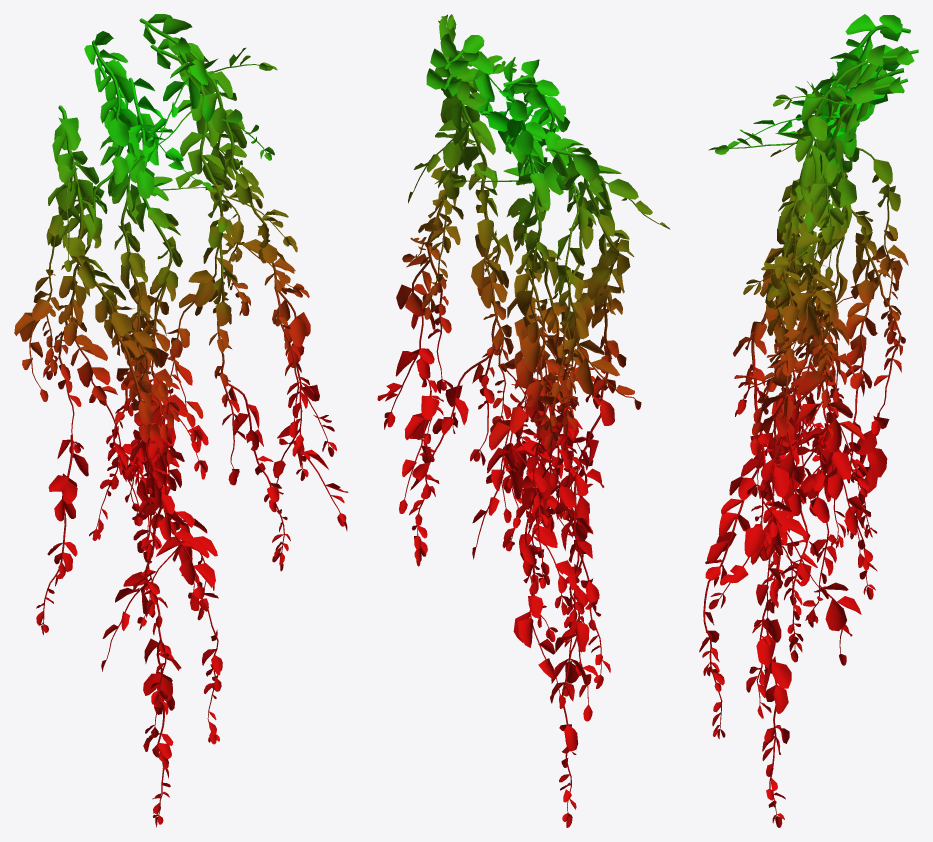
The model's file is Var3_LOD1.fbx.
3 renders of one model, left to right at view 1: azimuth 30°, elevation 25°; view 2: azimuth 150°, elevation 25°; view 3: azimuth 270°, elevation 25°, orthographic. The views are drawn at different scales.
Parts seen in each view (by area): view 1: _2dnd_Var3_LOD1; view 2: _2dnd_Var3_LOD1; view 3: _2dnd_Var3_LOD1.
Boxes of the visible parts, box(x1,y1,x2,y2) form: _2dnd_Var3_LOD1: box(14, 14, 348, 827); _2dnd_Var3_LOD1: box(377, 14, 670, 827); _2dnd_Var3_LOD1: box(699, 14, 918, 827).
Size of the model in its own units: 74.71 by 198 by 48.4.
